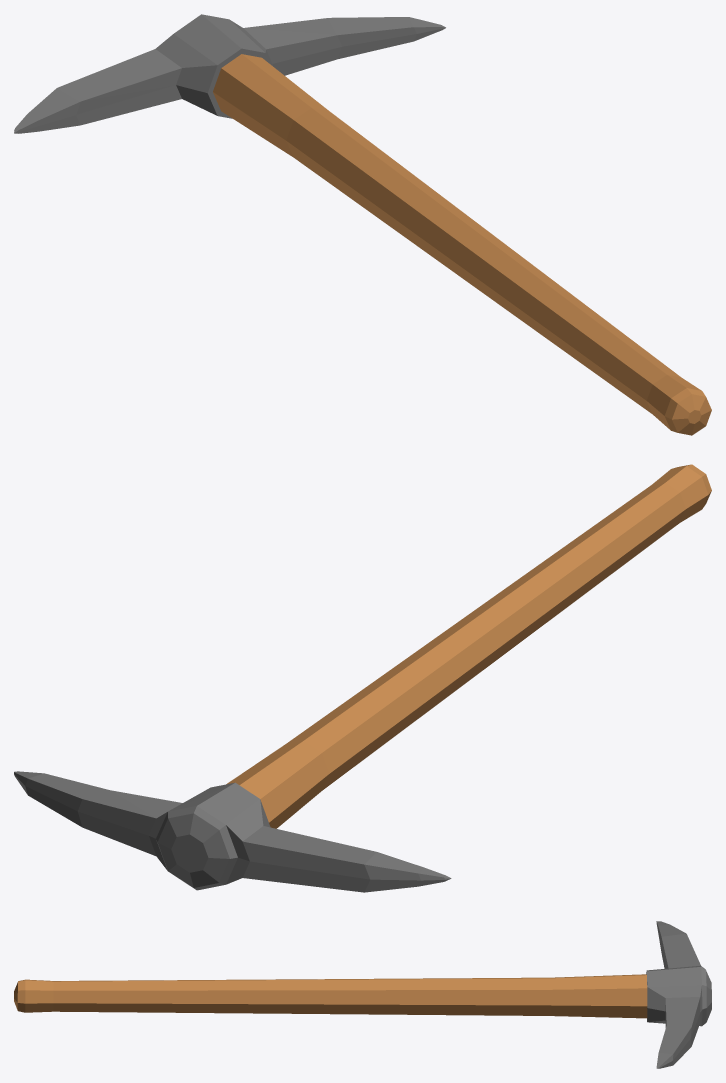
The model's file is normal.gltf.
3 views of the same model, one above another, from view 1: azimuth 30°, elevation 25°; view 2: azimuth 150°, elevation 25°; view 3: azimuth 270°, elevation 25° (orthographic). The views are drawn at different scales.
Visible parts, largest first — view 1: imagetostl_mesh0; view 2: imagetostl_mesh0; view 3: imagetostl_mesh0.
Part boxes in pixels (x1,y1,x2,y2): imagetostl_mesh0: (14, 14, 711, 435); imagetostl_mesh0: (14, 464, 711, 892); imagetostl_mesh0: (14, 921, 711, 1068).
Bounding box in the file's own units: 4.62 × 0.8544 × 9.26.
